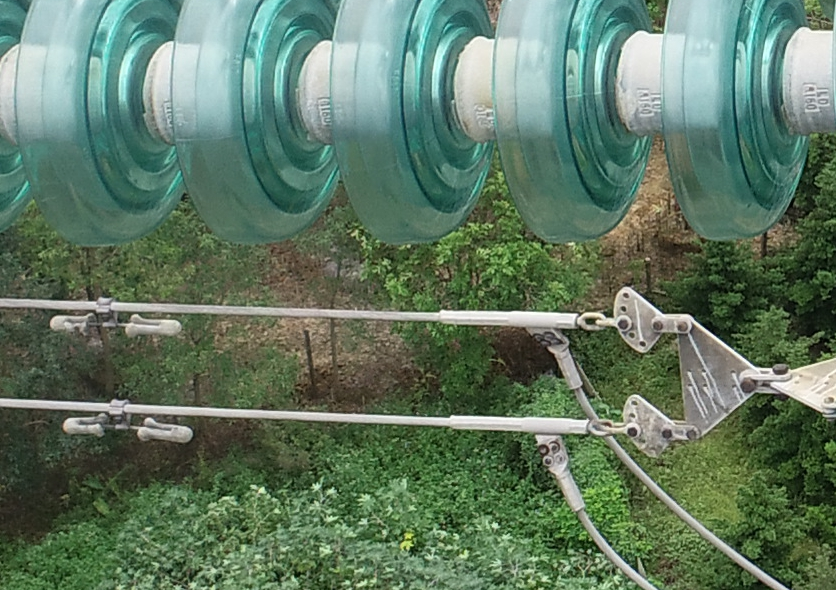damper: (58, 396, 195, 444), (45, 295, 183, 339)
